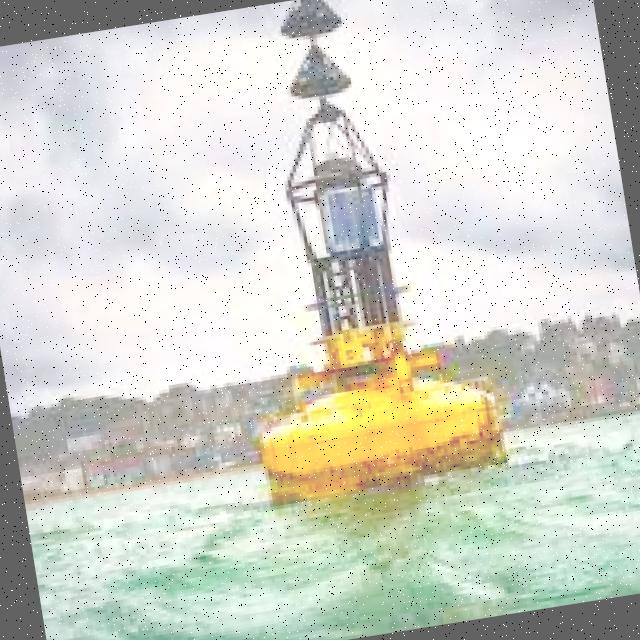marque: (183, 1, 517, 512)
